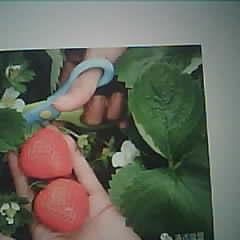straw-ripe: (32, 180, 88, 230), (19, 128, 73, 177)
